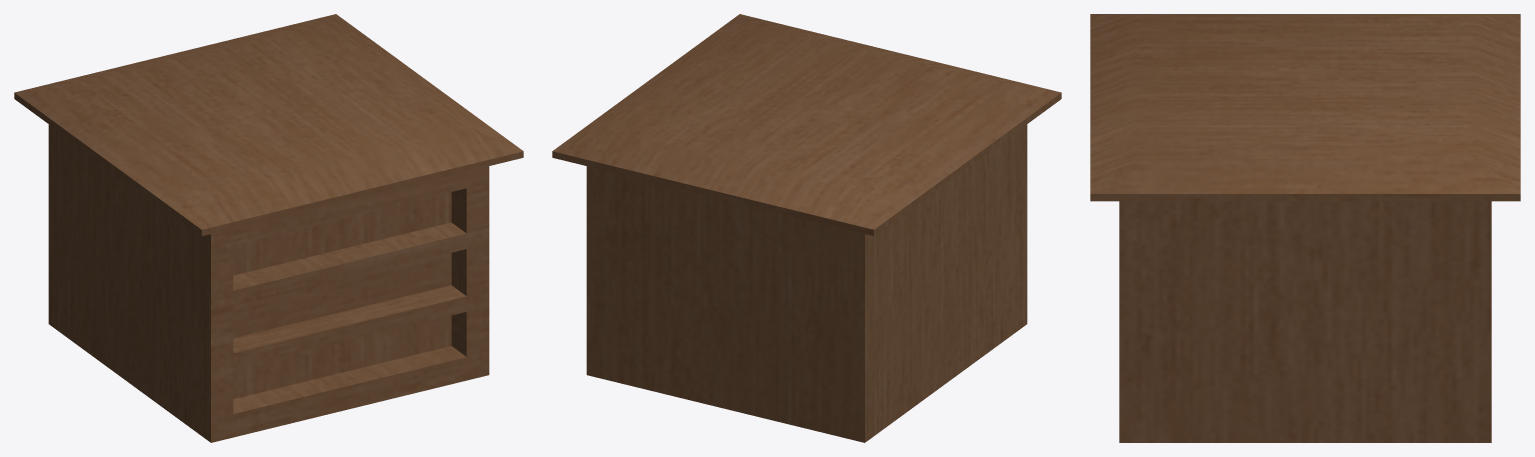
The model's file is cabinet.FBX.
The picture shows the model from 3 angles, left to right: view 1: azimuth 30°, elevation 25°; view 2: azimuth 150°, elevation 25°; view 3: azimuth 270°, elevation 25°; orthographic projection. The views are drawn at different scales.
Visible parts, largest first — view 1: cabinet; view 2: cabinet; view 3: cabinet.
Boxes of the visible parts, x1,y1,x2,y2 form: cabinet: [14, 14, 523, 442]; cabinet: [552, 14, 1061, 442]; cabinet: [1090, 14, 1520, 442].
Bounding box in the file's own units: 74.55 × 53.51 × 75.24.
